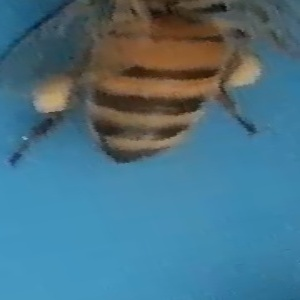bee: (2, 1, 297, 177)
